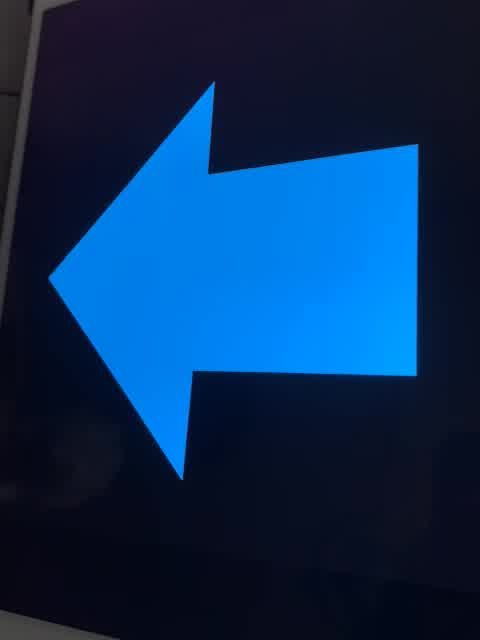left: (44, 74, 429, 488)
